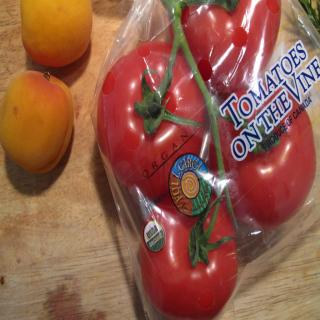tomato: (97, 39, 205, 201), (209, 76, 313, 228), (139, 190, 238, 320), (168, 0, 286, 93)
